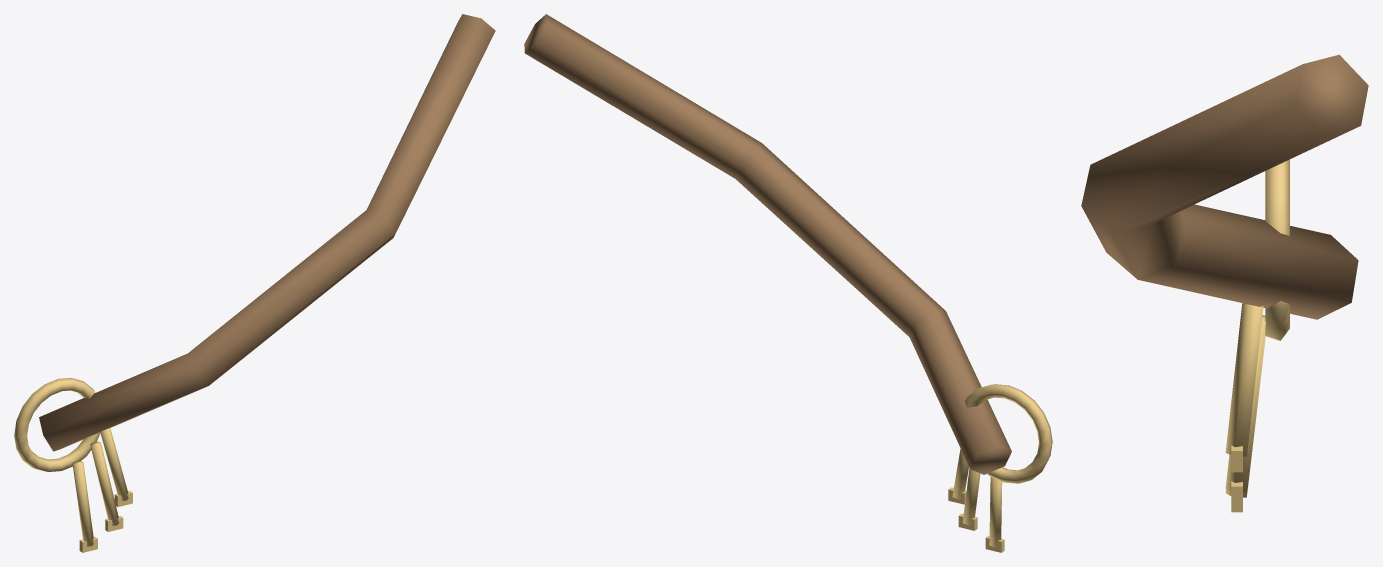
The model's file is JailerKeys.fbx.
3 views of the same model, side by side, from view 1: azimuth 30°, elevation 25°; view 2: azimuth 150°, elevation 25°; view 3: azimuth 270°, elevation 25° (orthographic). The views are drawn at different scales.
Visible parts, largest first — view 1: JailerKeys; view 2: JailerKeys; view 3: JailerKeys.
Boxes of the visible parts, <box> form: JailerKeys: <box>14,14,495,552</box>; JailerKeys: <box>524,14,1052,552</box>; JailerKeys: <box>1081,54,1368,512</box>.
Size of the model in its own units: 0.5759 by 0.4736 by 0.1469.
